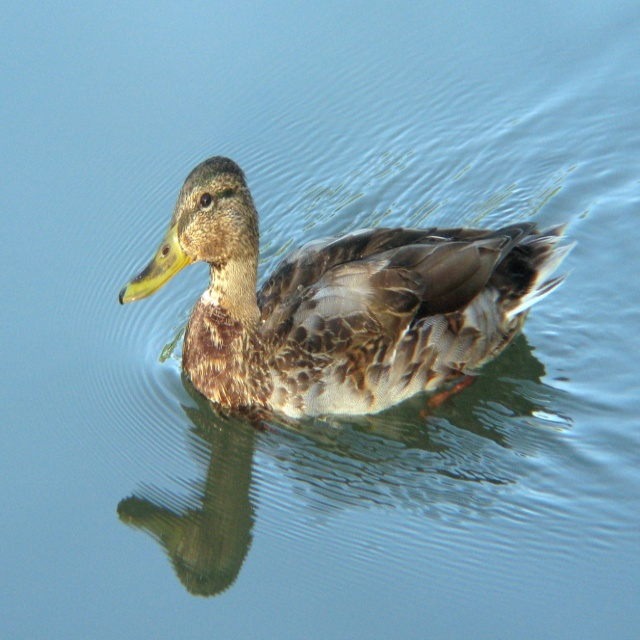Duck: (119, 154, 578, 427)
